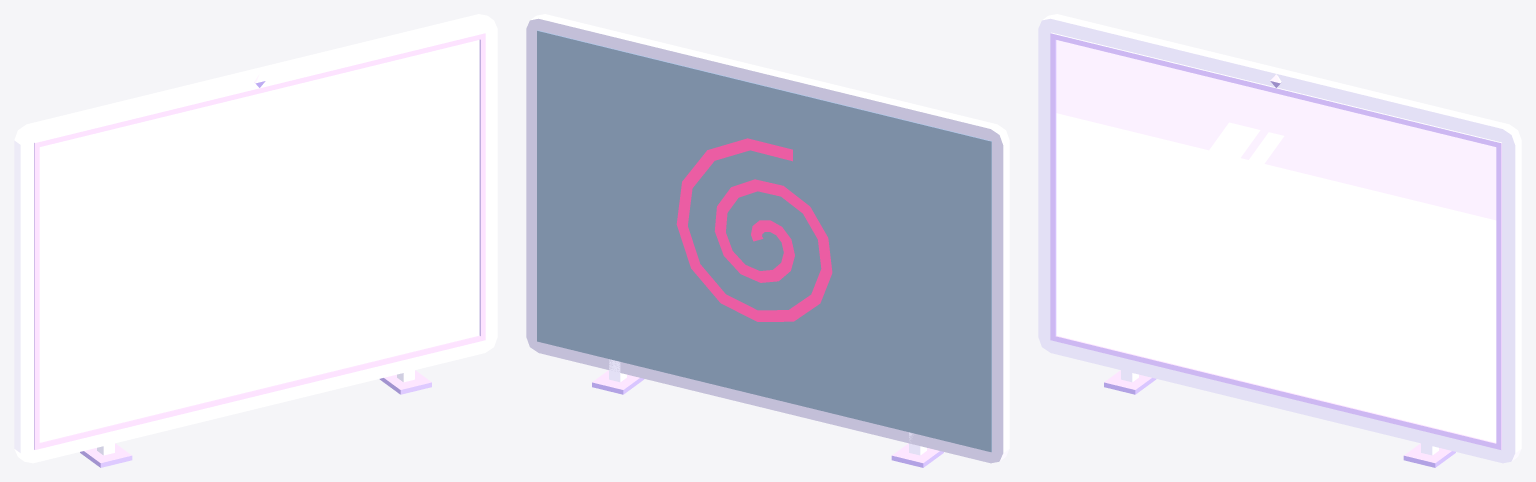
File: mirror-frame.glb
The picture shows the model from 3 angles, left to right: view 1: azimuth 30°, elevation 25°; view 2: azimuth 150°, elevation 25°; view 3: azimuth 330°, elevation 25°; orthographic projection.
Visible parts, largest first — view 1: mirror-frame; view 2: mirror-frame; view 3: mirror-frame.
Boxes of the visible parts, x1=… form: mirror-frame: x1=14, y1=14, x2=497, y2=467; mirror-frame: x1=526, y1=14, x2=1009, y2=467; mirror-frame: x1=1038, y1=14, x2=1521, y2=467.
Bounding box in the file's own units: 21.2 × 14.8 × 1.6.
